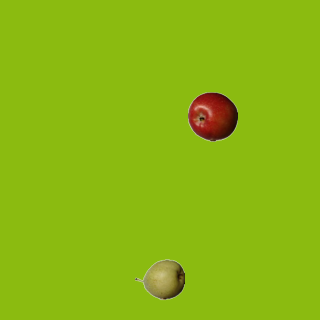Apple Braeburn: (187, 91, 237, 141)
Pear: (134, 254, 184, 304)
